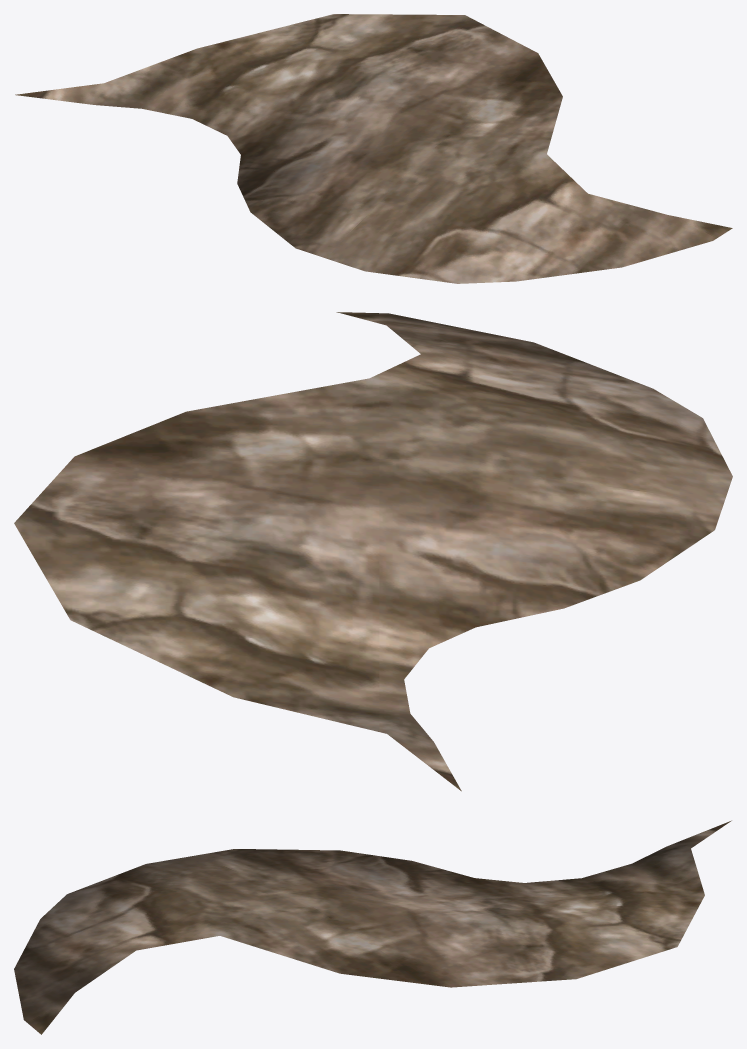
Rendered from OVERHILL_A_01_LINE116.fbx.
3 views of the same model, one above another, from view 1: azimuth 30°, elevation 25°; view 2: azimuth 150°, elevation 25°; view 3: azimuth 270°, elevation 25° (orthographic). The views are drawn at different scales.
Visible parts, largest first — view 1: OVERHILL_A_01_LINE116; view 2: OVERHILL_A_01_LINE116; view 3: OVERHILL_A_01_LINE116.
Boxes of the visible parts, x1=… form: OVERHILL_A_01_LINE116: x1=15, y1=14, x2=732, y2=283; OVERHILL_A_01_LINE116: x1=14, y1=312, x2=732, y2=791; OVERHILL_A_01_LINE116: x1=14, y1=820, x2=731, y2=1034.
Bounding box in the file's own units: 51341 × 4834 × 72595.
Materials: 1 (1 with a texture image).
